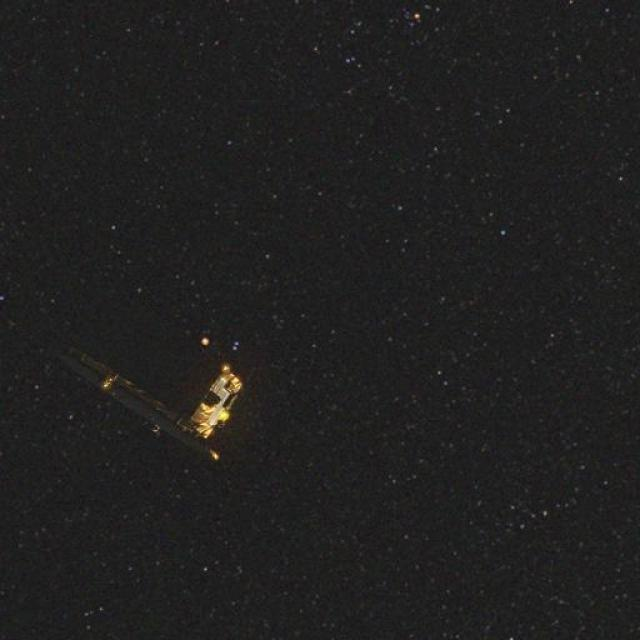lisa_pathfinder: (31, 291, 292, 475)
